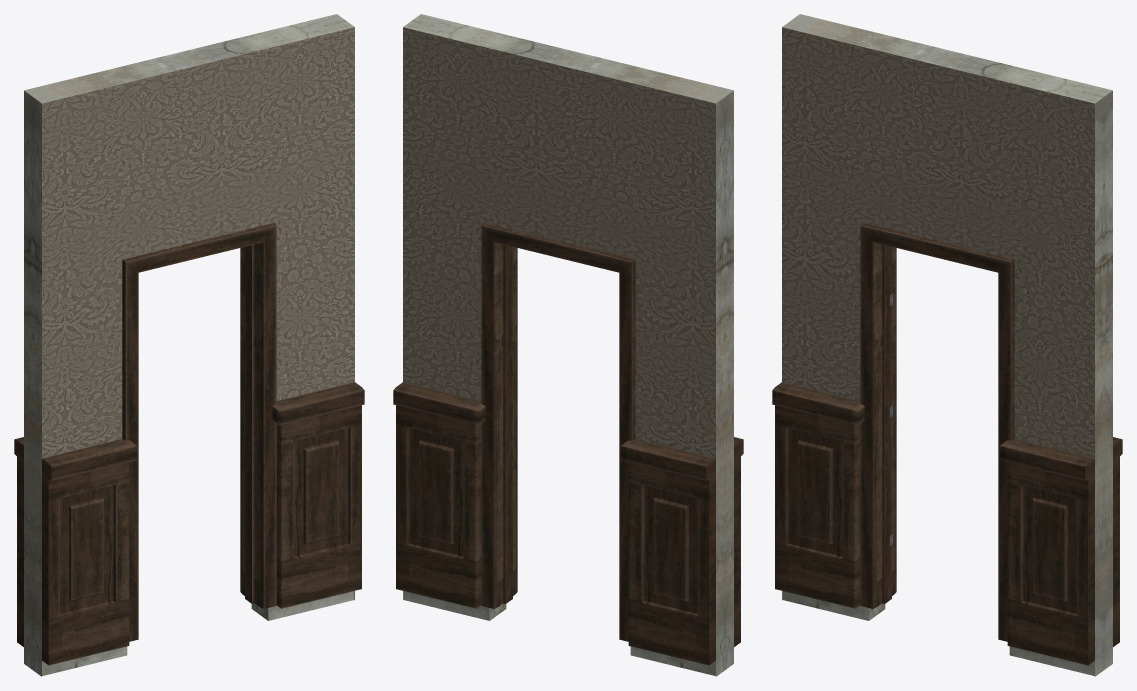
Rendered from R3_DoorWay.fbx.
The picture shows the model from 3 angles, left to right: view 1: azimuth 30°, elevation 25°; view 2: azimuth 150°, elevation 25°; view 3: azimuth 330°, elevation 25°; orthographic projection.
Parts seen in each view (by area): view 1: SM_Wall200_Door_DS_LOD0; view 2: SM_Wall200_Door_DS_LOD0; view 3: SM_Wall200_Door_DS_LOD0.
Part boxes in pixels (<box>): SM_Wall200_Door_DS_LOD0: <box>14,14,364,676</box>; SM_Wall200_Door_DS_LOD0: <box>393,14,743,676</box>; SM_Wall200_Door_DS_LOD0: <box>772,14,1122,676</box>.
Bounding box in the file's own units: 200 × 350 × 41.29.
